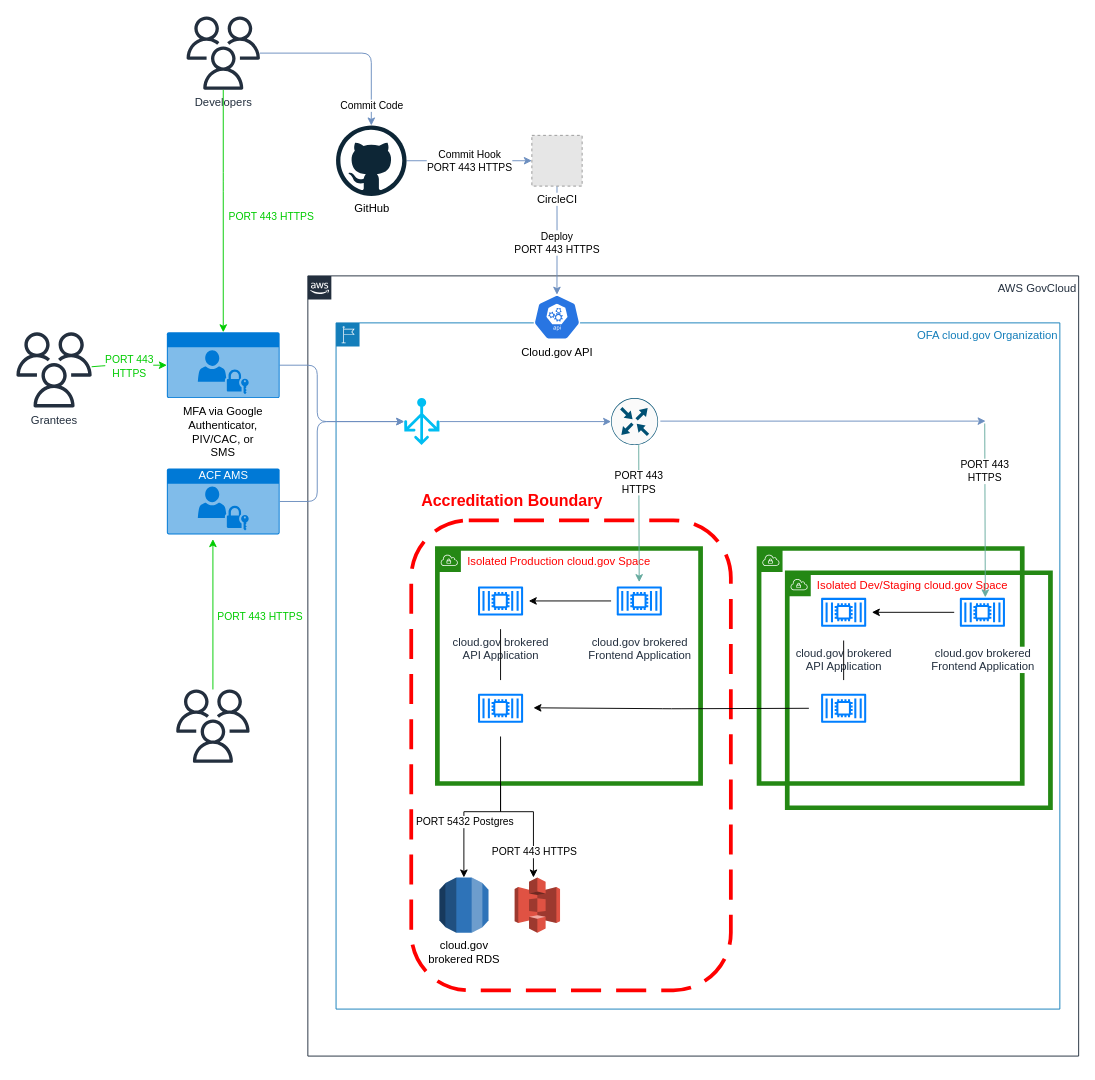
The diagram is 1095 pixels wide and 1080 high, and some of its shapes have lost their labels. Grey dashed boxes stand in for pictures. The centre of each missing label's shape, as x and y in pixels:
"AntiVirus API Application" goes at (500,707).
"cloud.gov brokered S3" goes at (537,905).
"cloud.gov load balancer" goes at (421,421).
"cloud.gov URL router" goes at (634,421).
"Login.gov" goes at (222,365).
"Nginx-as-router" goes at (843,707).
"OFA Admins ACF staff" goes at (212,725).
